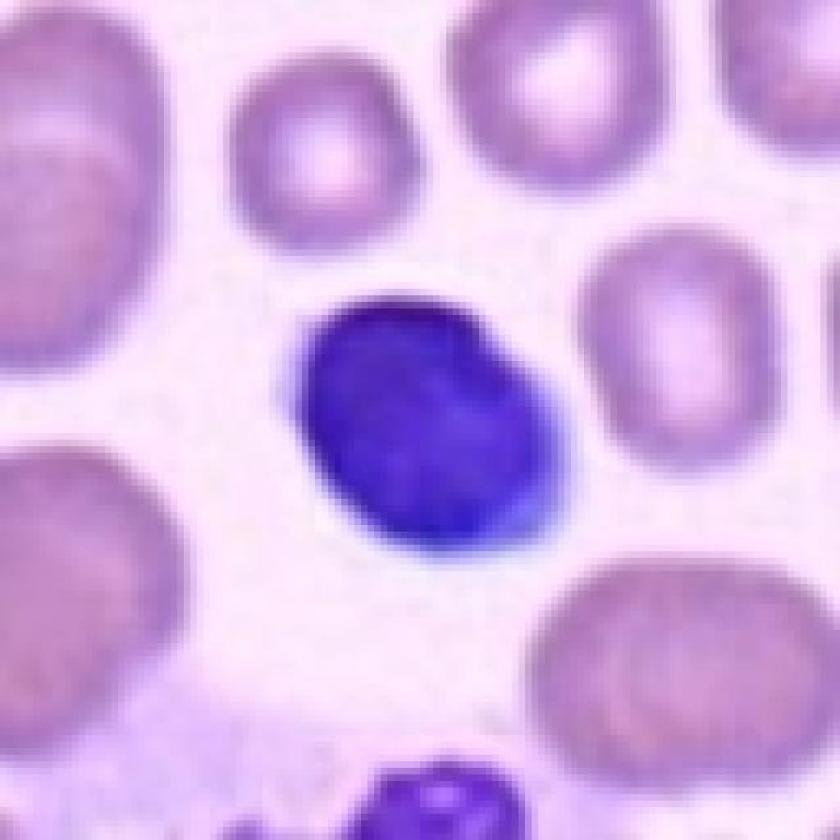lymphocyte: (285, 272, 583, 575)
